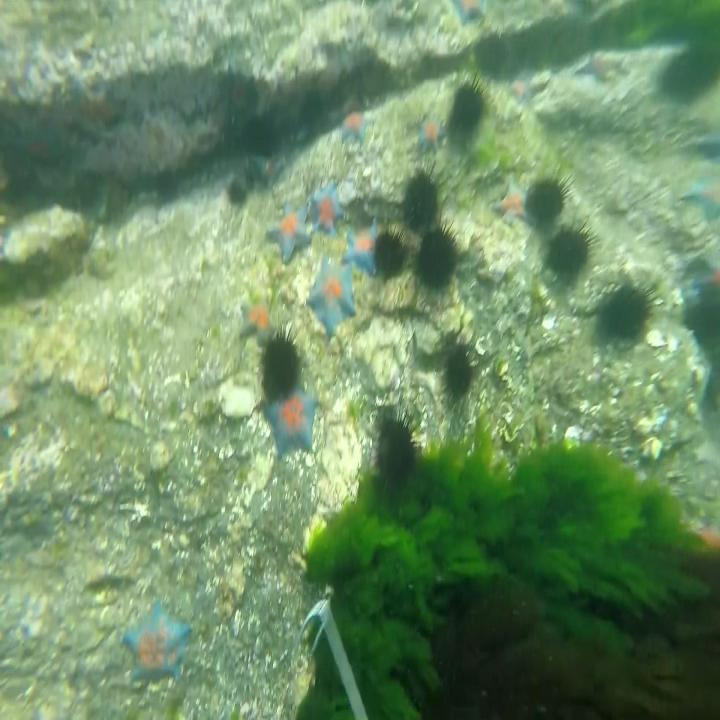echinus: (371, 396, 424, 499), (601, 279, 662, 344), (258, 321, 306, 402), (660, 45, 720, 108), (416, 212, 463, 290), (545, 216, 597, 282), (404, 155, 444, 230), (523, 170, 575, 227), (371, 216, 414, 282), (449, 70, 490, 138), (441, 335, 479, 407), (684, 293, 720, 350), (480, 27, 514, 84), (241, 113, 281, 160), (300, 82, 328, 130), (154, 164, 180, 204), (684, 253, 714, 278), (227, 179, 249, 208)
starfish: (121, 595, 195, 687), (262, 376, 320, 460), (305, 255, 358, 344), (62, 70, 124, 136), (264, 193, 316, 265), (490, 173, 539, 231), (340, 215, 382, 278), (237, 289, 279, 349), (308, 179, 346, 238), (678, 176, 720, 226), (574, 50, 632, 86), (218, 59, 256, 109), (254, 146, 288, 187), (506, 66, 540, 107), (338, 105, 370, 146), (417, 110, 444, 156), (692, 122, 720, 165), (450, 0, 490, 29)
